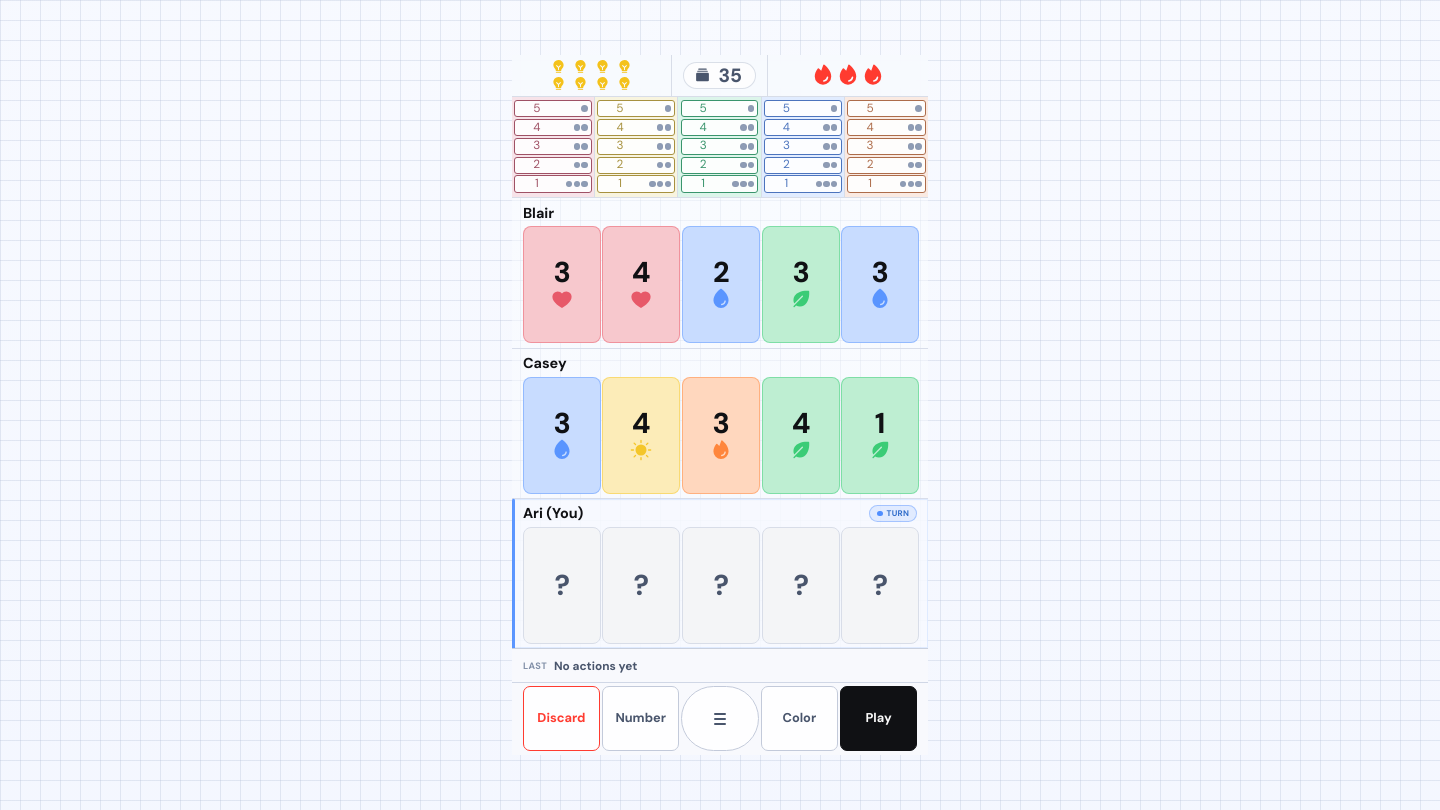
App local debug wiring › burger menu opens the shared rules drawer
Click the button with test id "actions-menu" at [720, 719], box [682,686,759,751]
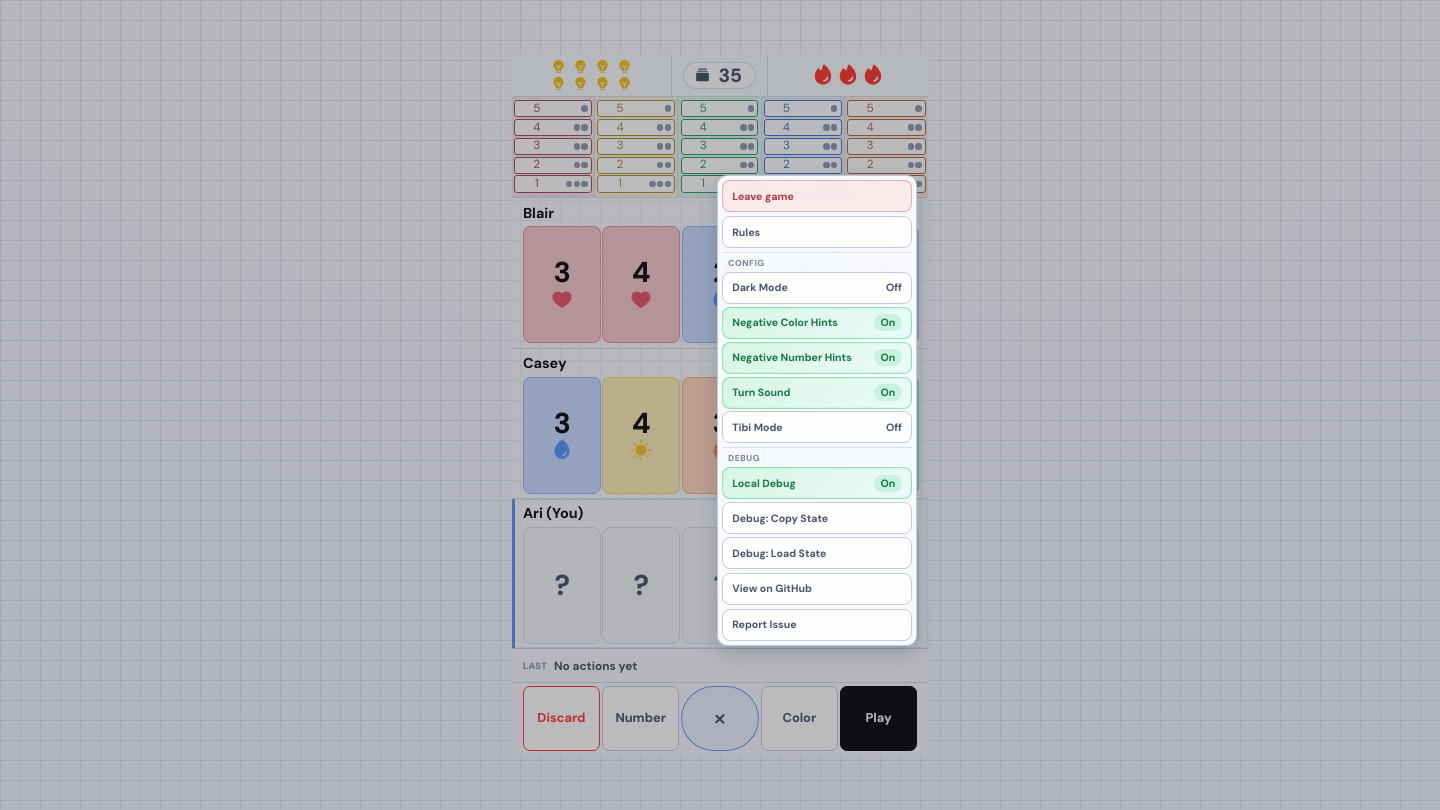
Click the button with test id "menu-rules" at [817, 232], box [722,216,912,248]
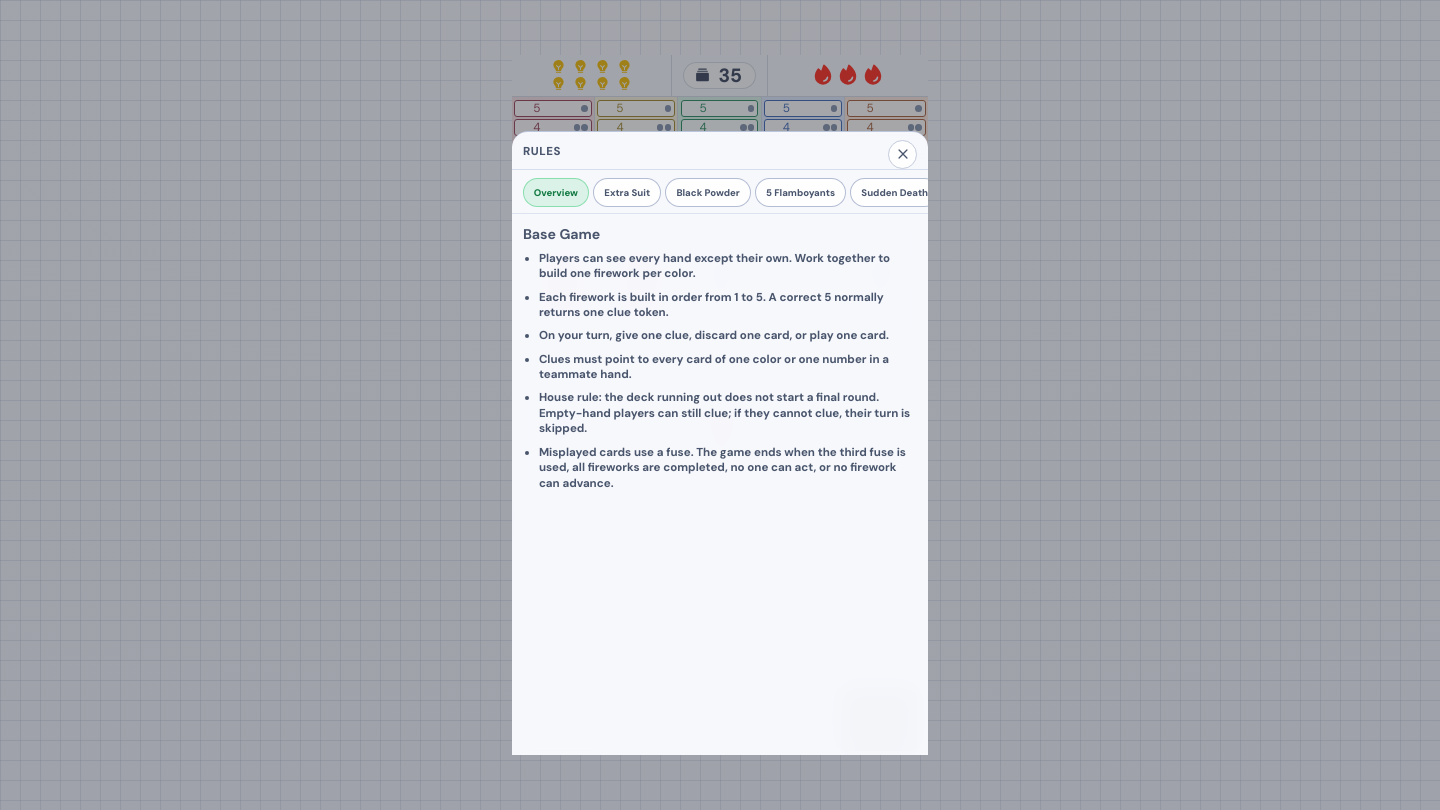
Now the dialog with test id "rules-drawer" is shown, box [512,131,928,755]
Click the tab with test id "rules-tab-flamboyants" at [800, 192], box [755,178,846,207]
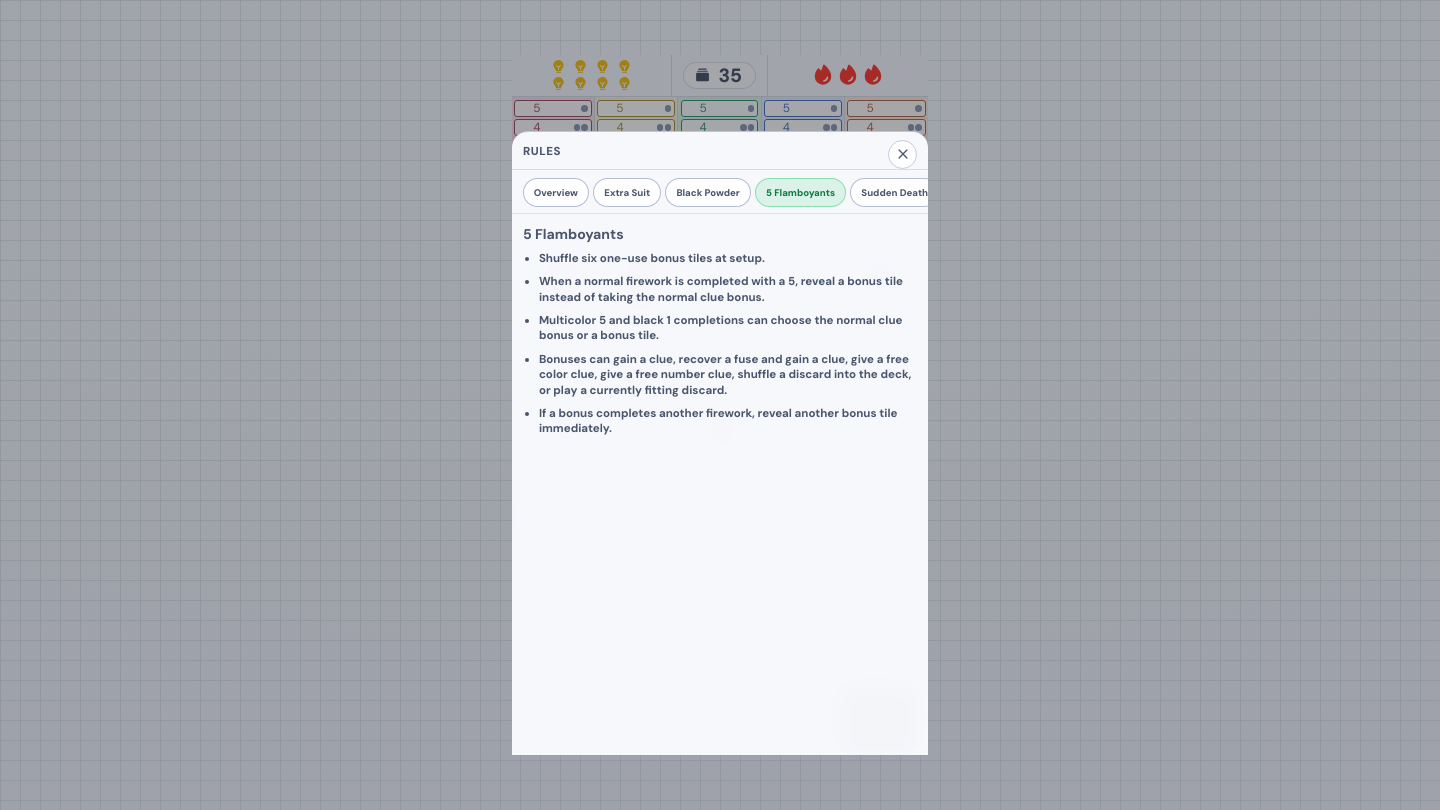
Now the element with test id "rules-content" shows "5 Flamboyants", box [523,225,624,243]
Now the element with test id "rules-content" shows "six one-use bonus tiles", box [539,251,765,266]
